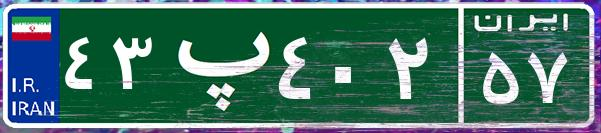0: (330, 28, 385, 110)
2: (385, 28, 445, 110)
3: (110, 28, 158, 105)
4: (273, 28, 330, 110), (57, 26, 110, 107)
5: (475, 38, 525, 113)
7: (525, 38, 570, 115)
پ: (158, 15, 273, 115)
